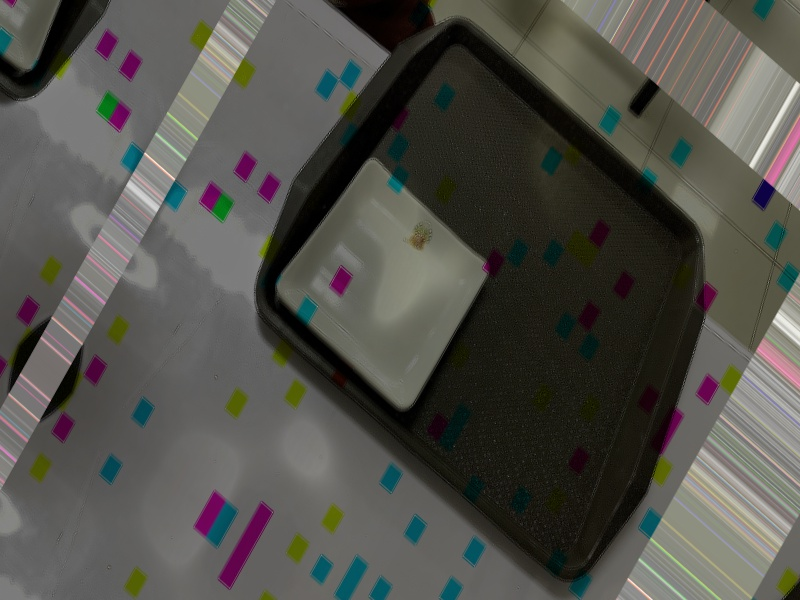dish4: (261, 133, 504, 431)
